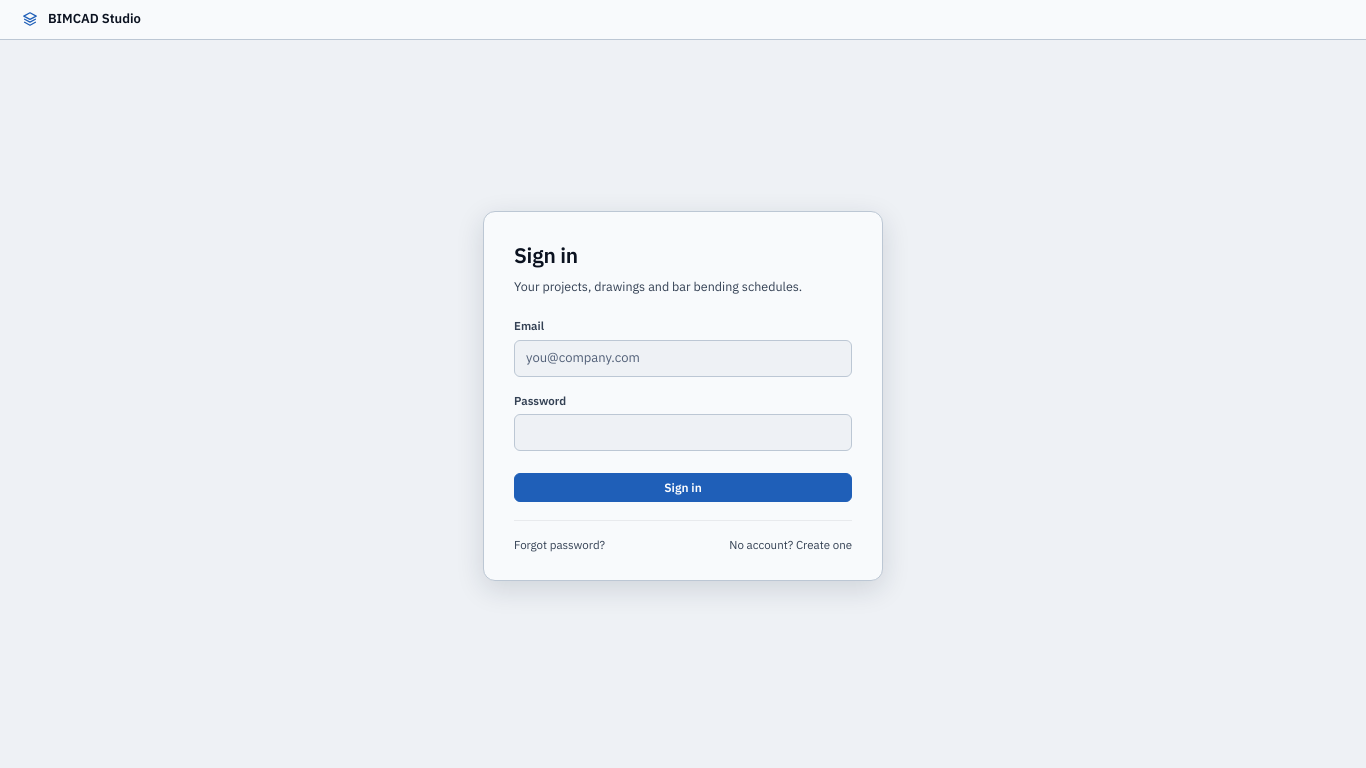
registering › asks for email, phone and a confirmed password
Click the button with test id "auth-goto-register" at (824, 546), box [796, 537, 852, 554]
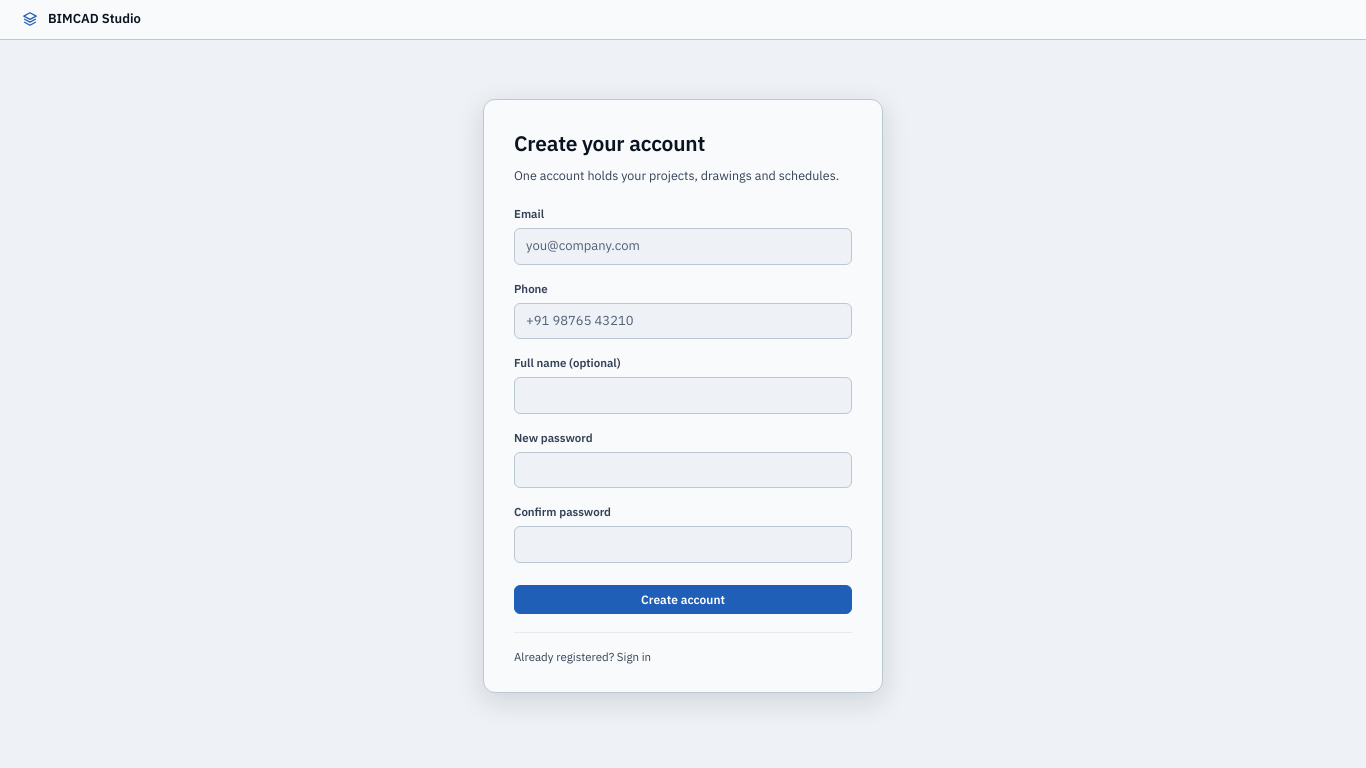
Result: the field with test id "auth-phone" is shown at [514, 303, 852, 339]
Result: the password field with test id "auth-confirm" is shown at [514, 526, 852, 563]
Click the button with test id "auth-submit" at (683, 600), box [514, 585, 852, 614]
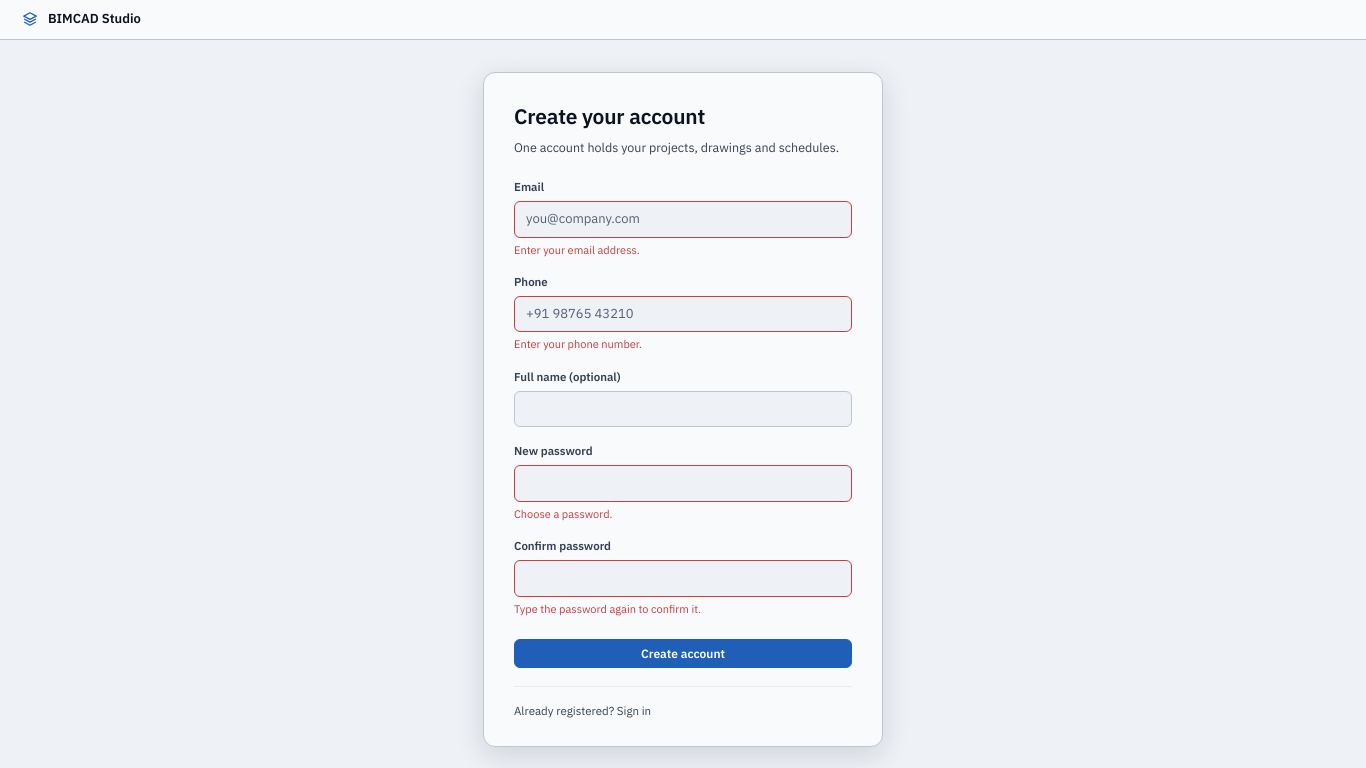
Result: the text "Enter your phone number." is shown at [514, 338, 642, 352]
